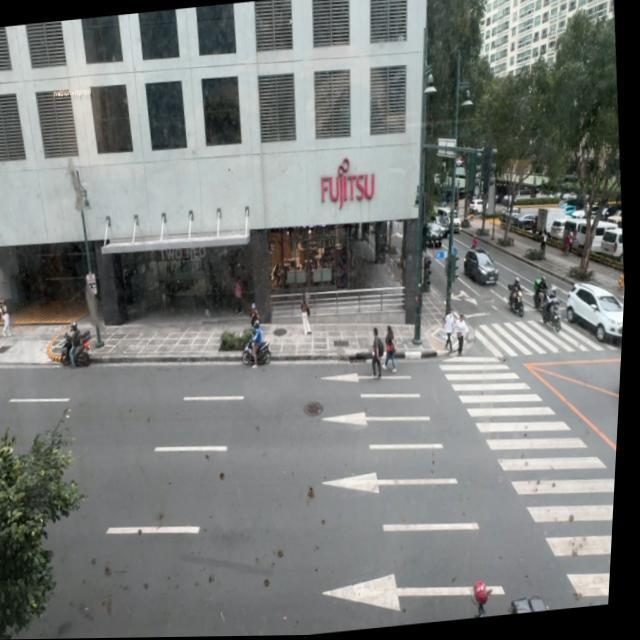jaywalking: (366, 326, 385, 378), (379, 325, 398, 373)
